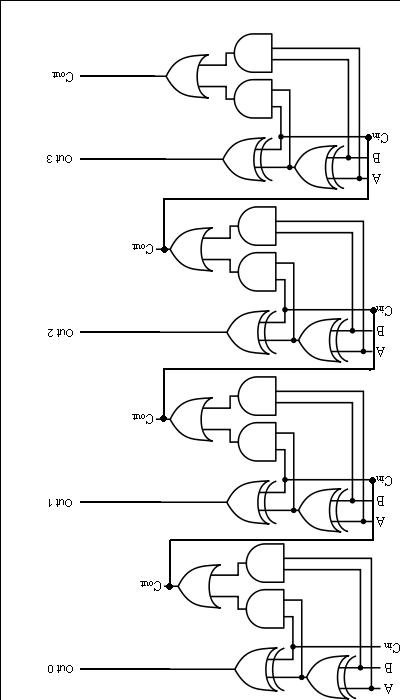and: (229, 27, 277, 75), (233, 418, 281, 464), (228, 77, 273, 126), (242, 584, 288, 631), (234, 248, 280, 294), (241, 539, 288, 584), (232, 203, 281, 246), (233, 373, 280, 417)
or: (160, 50, 212, 102), (166, 223, 215, 275), (165, 394, 214, 444), (174, 561, 223, 611)
xor: (229, 641, 286, 697), (220, 306, 280, 358), (216, 134, 276, 182), (304, 649, 360, 700), (221, 476, 278, 526), (291, 140, 345, 191), (296, 483, 350, 534), (296, 314, 349, 364)
